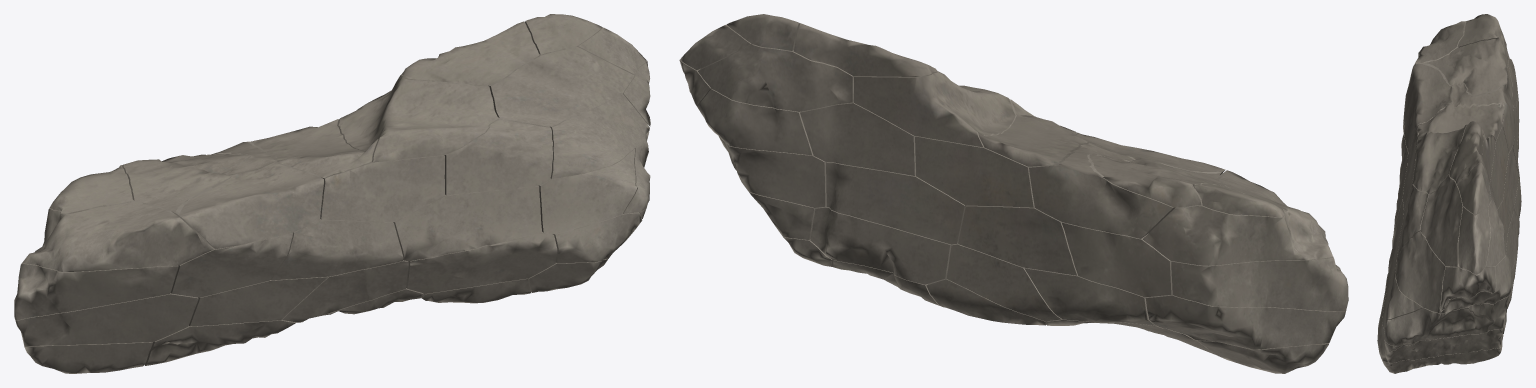
The model's file is collapse-study.glb.
3 renders of one model, left to right at view 1: azimuth 30°, elevation 25°; view 2: azimuth 150°, elevation 25°; view 3: azimuth 270°, elevation 25°, orthographic. The views are drawn at different scales.
Parts seen in each view (by area): view 1: 岩层断块_19.001, 岩层断块_18.001, 岩层断块_27.001, 岩层断块_15.001, 岩层断块_28.001, 岩层断块_20.001, 岩层断块_06.001, 岩层断块_21.001, 岩层断块_12.001, 岩层断块_14.001, 岩层断块_09.001, 岩层断块_22.001 (+18 smaller); view 2: 岩层断块_18.001, 岩层断块_19.001, 岩层断块_27.001, 岩层断块_12.001, 岩层断块_28.001, 岩层断块_15.001, 岩层断块_06.001, 岩层断块_09.001, 岩层断块_20.001, 岩层断块_21.001, 岩层断块_14.001, 岩层断块_13.001 (+17 smaller); view 3: 岩层断块_19.001, 岩层断块_22.001, 岩层断块_28.001, 岩层断块_25.001, 岩层断块_17.001, 岩层断块_27.001, 岩层断块_10.001, 岩层断块_26.001, 岩层断块_29.001, 岩层断块_16.001, 岩层断块_23.001, 岩层断块_20.001 (+12 smaller).
Part boxes in pixels (x1=…): 岩层断块_19.001: x1=171, y1=141, x2=323, y2=249; 岩层断块_18.001: x1=22, y1=200, x2=213, y2=271; 岩层断块_27.001: x1=337, y1=74, x2=498, y2=162; 岩层断块_15.001: x1=393, y1=186, x2=542, y2=260; 岩层断块_28.001: x1=488, y1=46, x2=634, y2=126; 岩层断块_20.001: x1=320, y1=155, x2=444, y2=221; 岩层断块_06.001: x1=15, y1=293, x2=198, y2=345; 岩层断块_21.001: x1=444, y1=117, x2=552, y2=195; 岩层断块_12.001: x1=14, y1=263, x2=178, y2=320; 岩层断块_14.001: x1=270, y1=219, x2=403, y2=280; 岩层断块_09.001: x1=406, y1=232, x2=557, y2=293; 岩层断块_22.001: x1=550, y1=94, x2=649, y2=179; 岩层断块_18.001: x1=1142, y1=170, x2=1332, y2=265; 岩层断块_19.001: x1=1029, y1=132, x2=1225, y2=238; 岩层断块_27.001: x1=854, y1=71, x2=1016, y2=147; 岩层断块_12.001: x1=1171, y1=242, x2=1348, y2=311; 岩层断块_28.001: x1=697, y1=44, x2=854, y2=111; 岩层断块_15.001: x1=826, y1=162, x2=966, y2=244; 岩层断块_06.001: x1=1145, y1=294, x2=1345, y2=349; 岩层断块_09.001: x1=810, y1=206, x2=952, y2=284; 岩层断块_20.001: x1=915, y1=133, x2=1034, y2=207; 岩层断块_21.001: x1=800, y1=102, x2=915, y2=175; 岩层断块_14.001: x1=958, y1=205, x2=1077, y2=275; 岩层断块_13.001: x1=1061, y1=222, x2=1172, y2=297; 岩层断块_19.001: x1=1403, y1=63, x2=1514, y2=152; 岩层断块_22.001: x1=1395, y1=231, x2=1511, y2=313; 岩层断块_28.001: x1=1420, y1=174, x2=1505, y2=266; 岩层断块_25.001: x1=1425, y1=38, x2=1507, y2=95; 岩层断块_17.001: x1=1384, y1=308, x2=1493, y2=346; 岩层断块_27.001: x1=1412, y1=124, x2=1495, y2=194; 岩层断块_10.001: x1=1377, y1=305, x2=1502, y2=363; 岩层断块_26.001: x1=1417, y1=103, x2=1503, y2=140; 岩层断块_29.001: x1=1458, y1=206, x2=1490, y2=274; 岩层断块_16.001: x1=1382, y1=260, x2=1508, y2=330; 岩层断块_23.001: x1=1440, y1=267, x2=1496, y2=310; 岩层断块_20.001: x1=1402, y1=126, x2=1508, y2=210.
Size of what is drawn, in the model's own units: 28 by 10 by 6.
4 materials, 4 textured.
